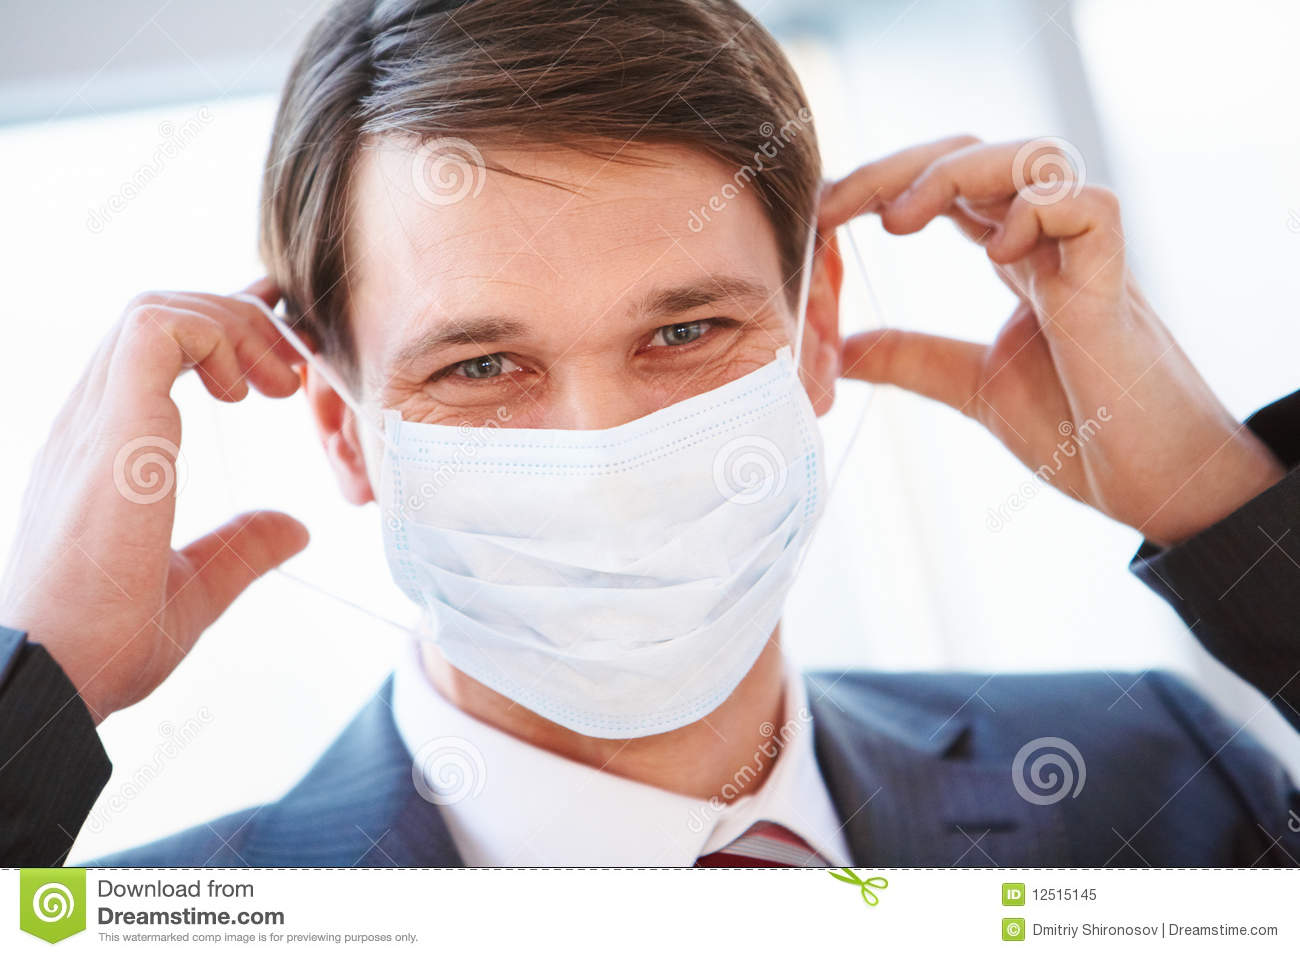mask: (371, 369, 835, 741)
